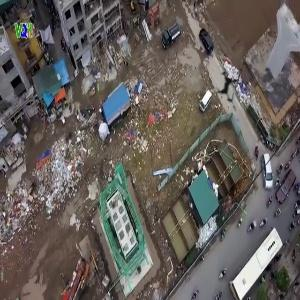drone: (195, 54, 265, 124)
